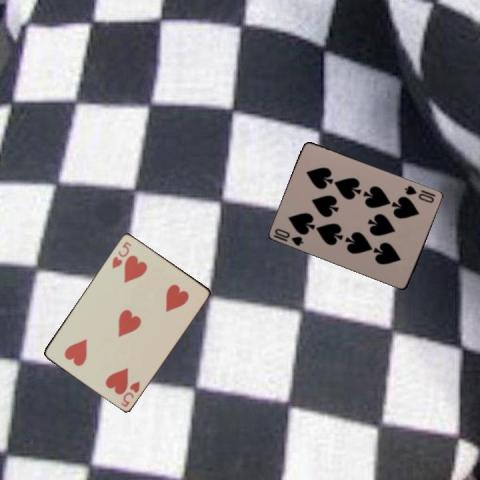10s: (271, 226, 305, 248), (402, 182, 435, 204)
5h: (108, 238, 132, 270), (118, 378, 142, 408)
